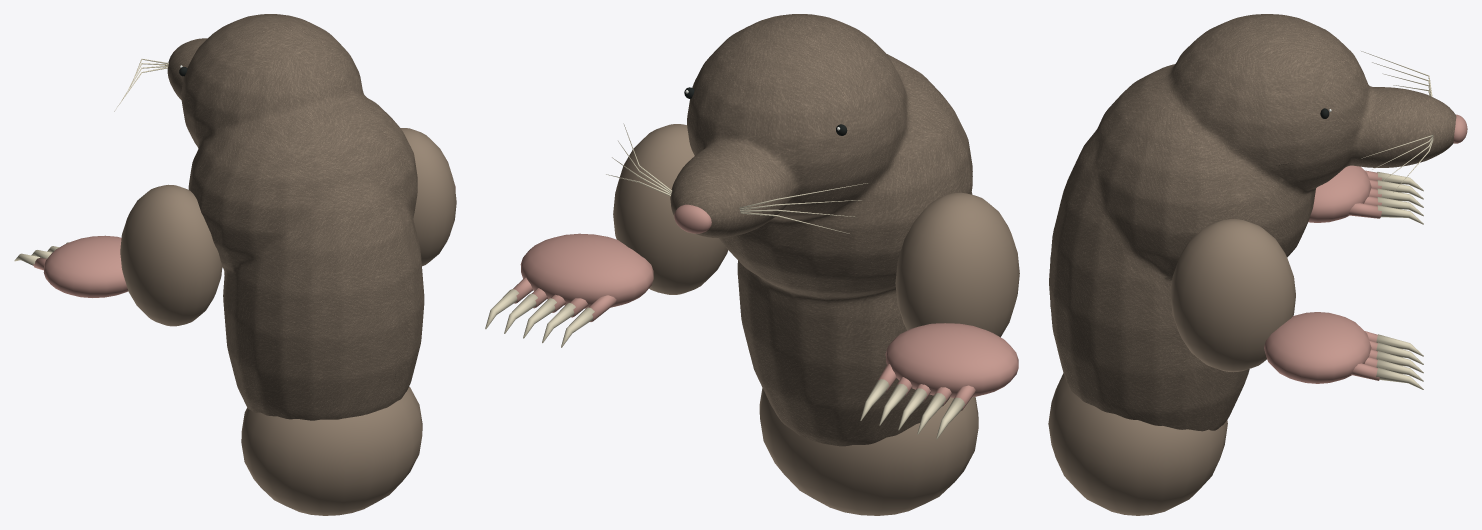
File: mole_upper_body.glb
3 renders of one model, left to right at view 1: azimuth 30°, elevation 25°; view 2: azimuth 150°, elevation 25°; view 3: azimuth 270°, elevation 25°, orthographic. The views are drawn at different scales.
Visible parts, largest first — view 1: ContinuousFurredBody, BuriedLowerBody, ShoulderArm, ShoulderArm.001, BroadDiggingPalm; view 2: ContinuousFurredBody, BuriedLowerBody, ShoulderArm, ShoulderArm.001, BroadDiggingPalm, BroadDiggingPalm.001, PinkSensitiveNose; view 3: ContinuousFurredBody, ShoulderArm.001, BuriedLowerBody, BroadDiggingPalm.001, BroadDiggingPalm.
Boxes of the visible parts, x1,y1,x2,y2 form: ContinuousFurredBody: (167,14,424,420); BuriedLowerBody: (241,386,422,515); ShoulderArm: (120,184,222,326); ShoulderArm.001: (400,128,456,266); BroadDiggingPalm: (43,235,128,297); ContinuousFurredBody: (670,14,972,446); BuriedLowerBody: (759,388,978,515); ShoulderArm: (895,192,1019,337); ShoulderArm.001: (613,124,727,294); BroadDiggingPalm: (885,323,1018,397); BroadDiggingPalm.001: (520,233,653,308); PinkSensitiveNose: (674,204,711,233); ContinuousFurredBody: (1049,14,1456,431); ShoulderArm.001: (1170,219,1295,372); BuriedLowerBody: (1048,373,1227,515); BroadDiggingPalm.001: (1264,312,1371,383); BroadDiggingPalm: (1308,165,1371,222).
Bounding box in the file's own units: 0.282 × 0.2957 × 0.2335.
Materials: 6 (1 with a texture image).
